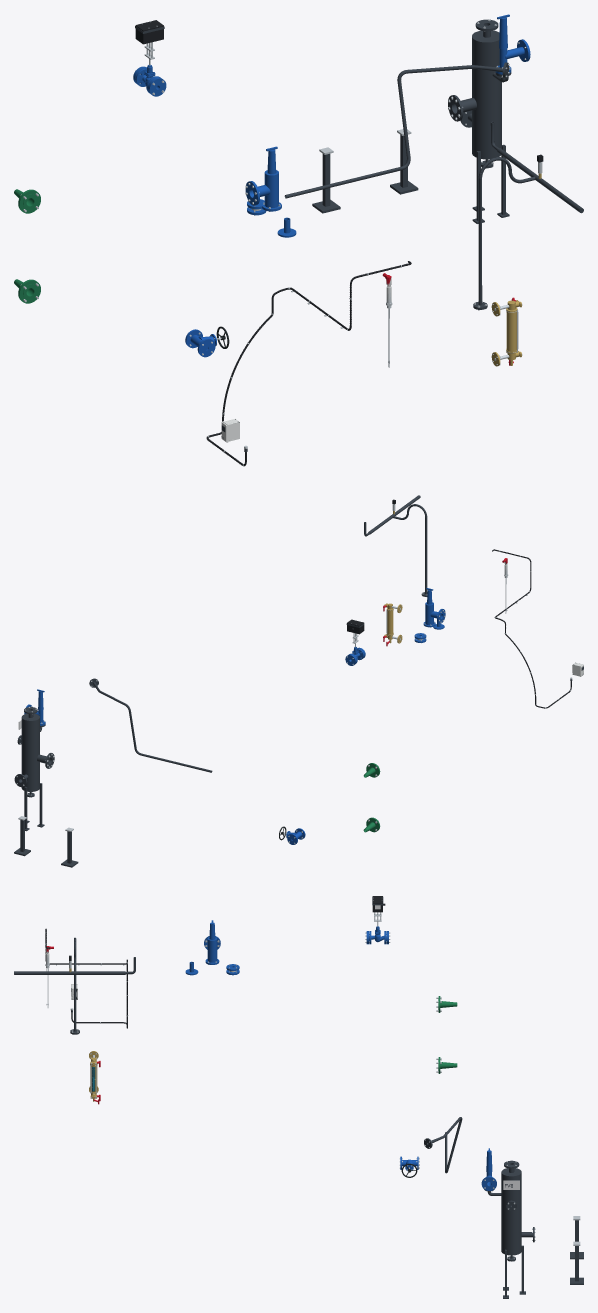
3 views of the same model, one above another, from view 1: azimuth 30°, elevation 25°; view 2: azimuth 150°, elevation 25°; view 3: azimuth 270°, elevation 25° (orthographic). The views are drawn at different scales.
Visible parts, largest first — view 1: separator_fv8 / dark, pressure_header / dark, tds_without_fv / dark, trap_support / dark, safety_2 / blue, sight_glasses_2 / sight_glasses_2_0.npz, wiring_lcs600 / black, eco_inlet_adapter / green, flash_steam_common / blue, drain_isolation_2 / drain_isolation_2_0.npz; view 2: separator_fv8 / dark, pressure_header / dark, tds_without_fv / dark, trap_support / dark; view 3: separator_fv8 / dark, pressure_header / dark.
Boxes of the visible parts, <box> form: separator_fv8 / dark: <box>448,19,511,223</box>; pressure_header / dark: <box>473,121,583,309</box>; tds_without_fv / dark: <box>284,62,508,198</box>; trap_support / dark: <box>312,135,418,213</box>; safety_2 / blue: <box>245,146,281,211</box>; sight_glasses_2 / sight_glasses_2_0.npz: <box>491,297,522,366</box>; wiring_lcs600 / black: <box>206,261,411,466</box>; eco_inlet_adapter / green: <box>14,189,40,303</box>; flash_steam_common / blue: <box>495,14,530,74</box>; drain_isolation_2 / drain_isolation_2_0.npz: <box>185,326,229,357</box>; separator_fv8 / dark: <box>14,707,54,831</box>; pressure_header / dark: <box>364,495,427,596</box>; tds_without_fv / dark: <box>89,678,212,772</box>; trap_support / dark: <box>14,820,78,867</box>; separator_fv8 / dark: <box>484,1160,534,1298</box>; pressure_header / dark: <box>14,937,135,1034</box>.
Bounding box in the file's own units: 5.1 × 2.96 × 6.1.
